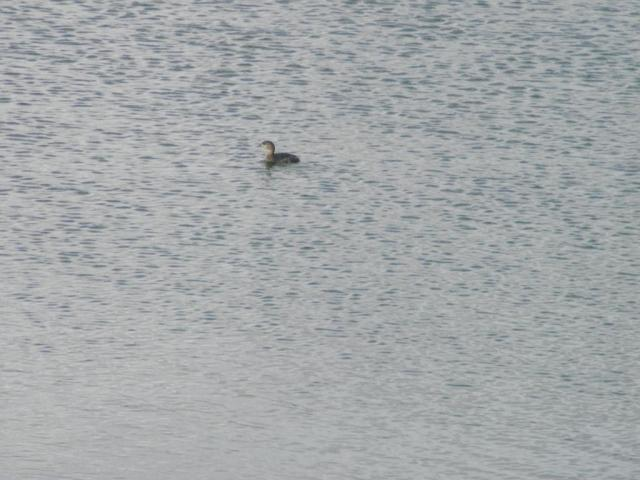Bird: (255, 140, 301, 164)
